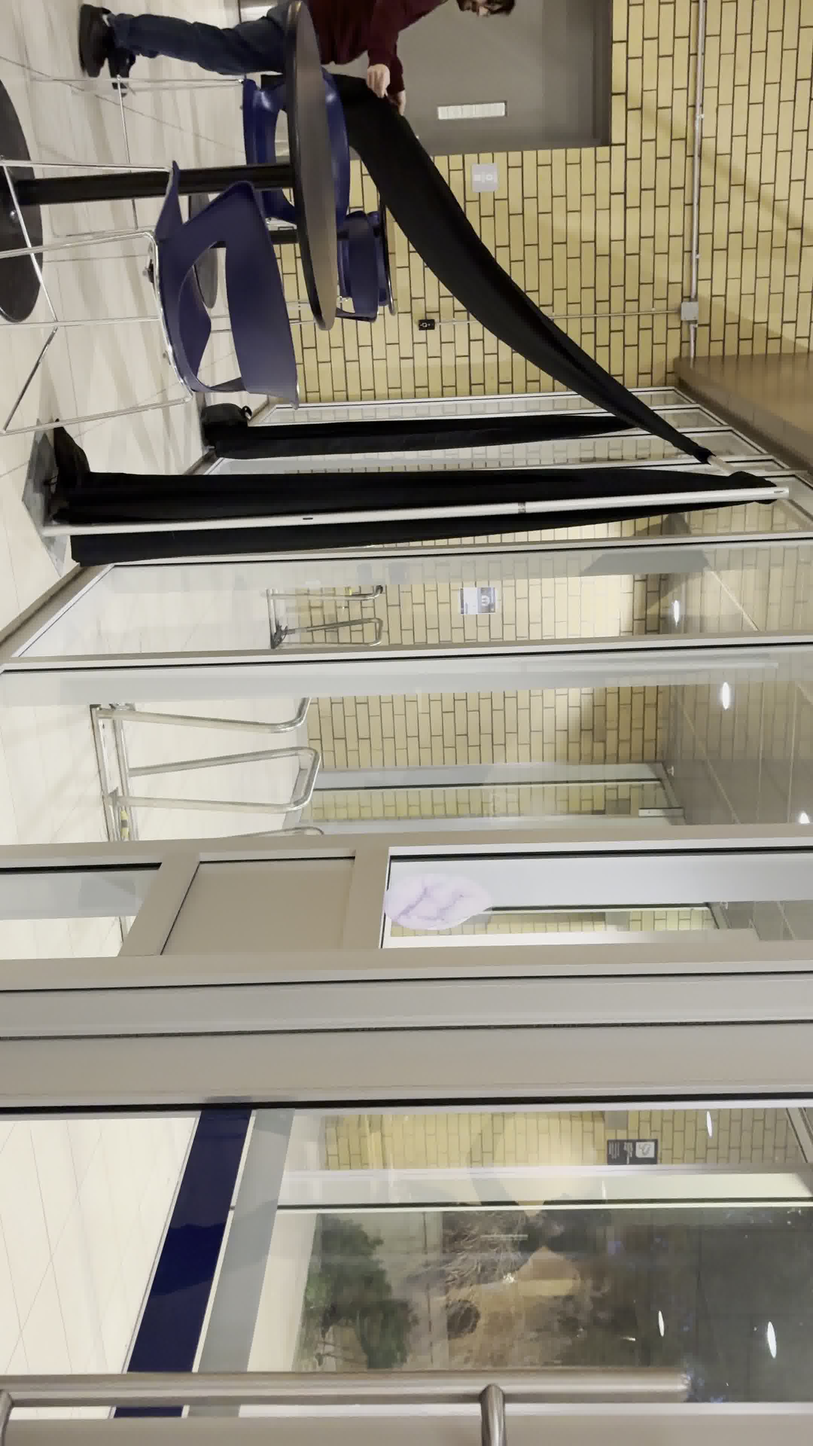Target: (381, 870, 494, 932), (438, 868, 439, 870)
